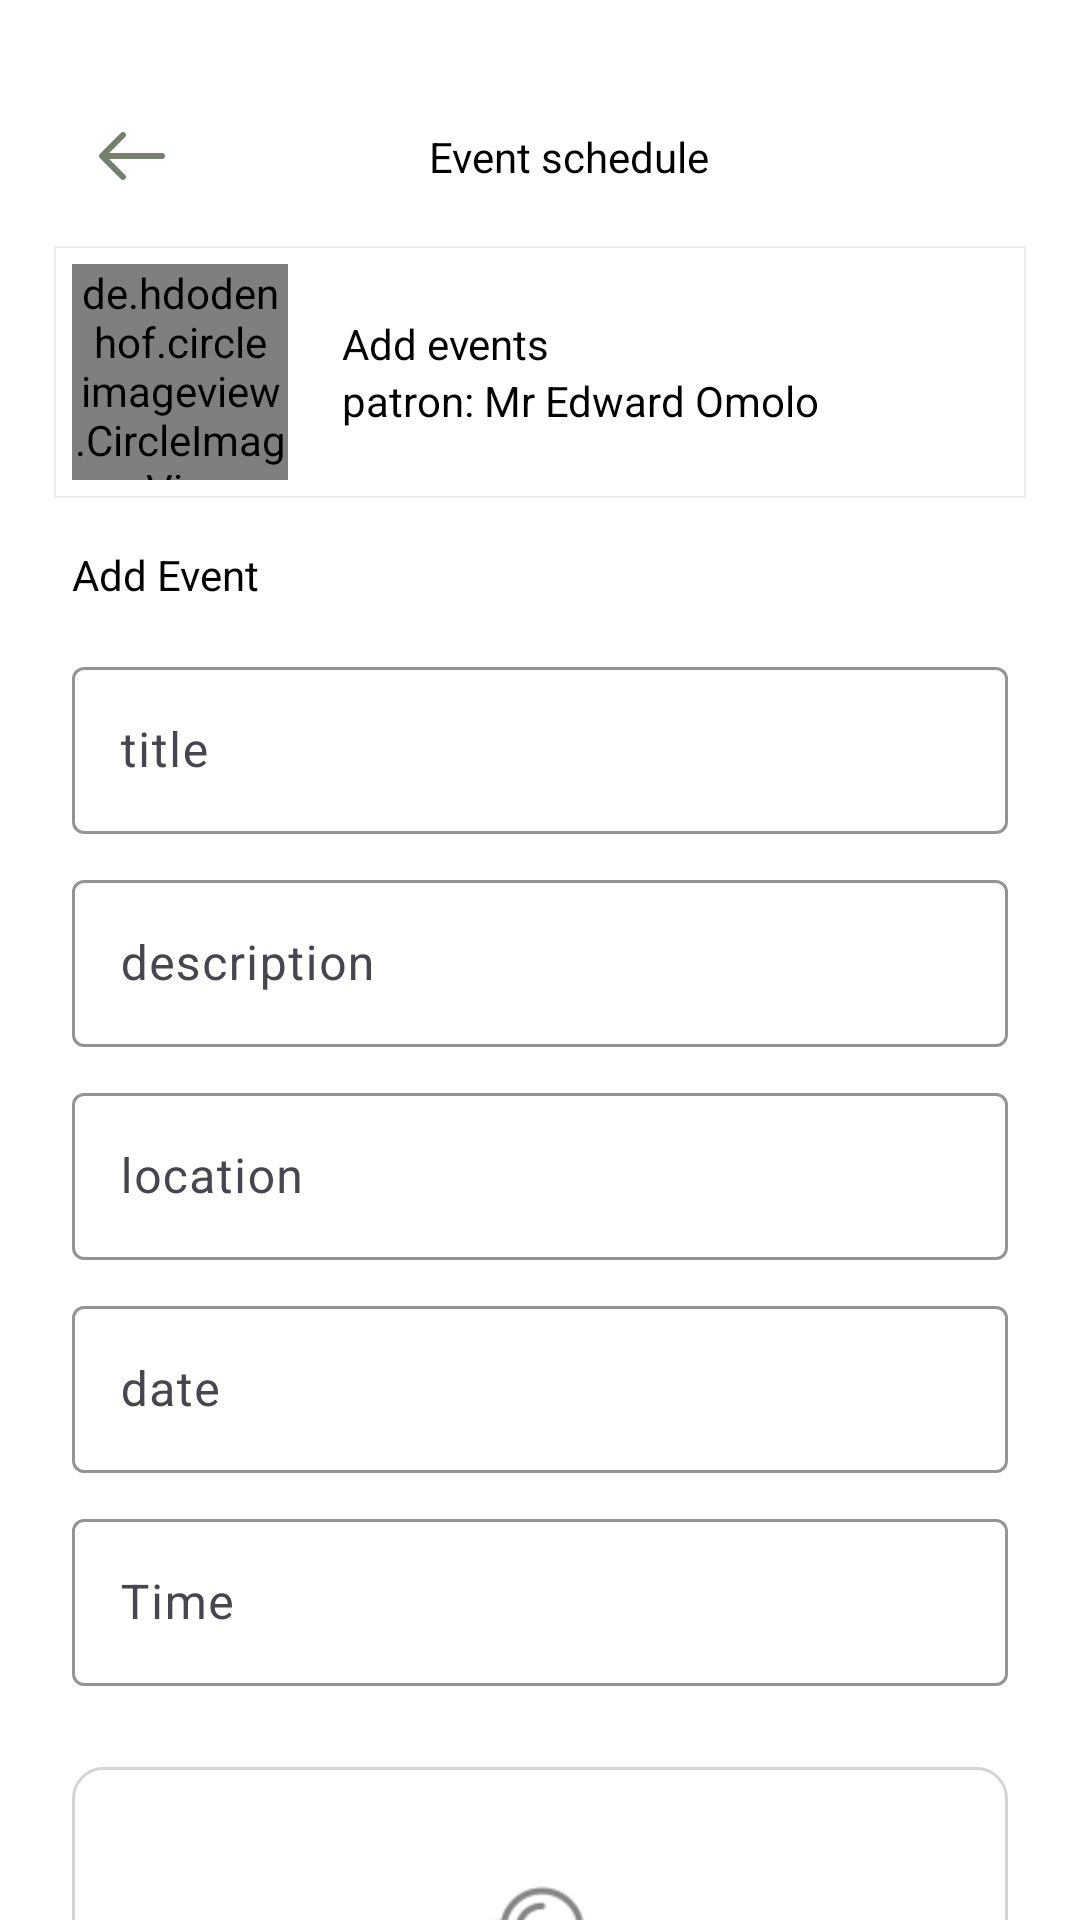

Icons on this 1080 x 1920 Android screen, each with the point to tap as (x=x, y=y):
back arrow: (x=132, y=156)
